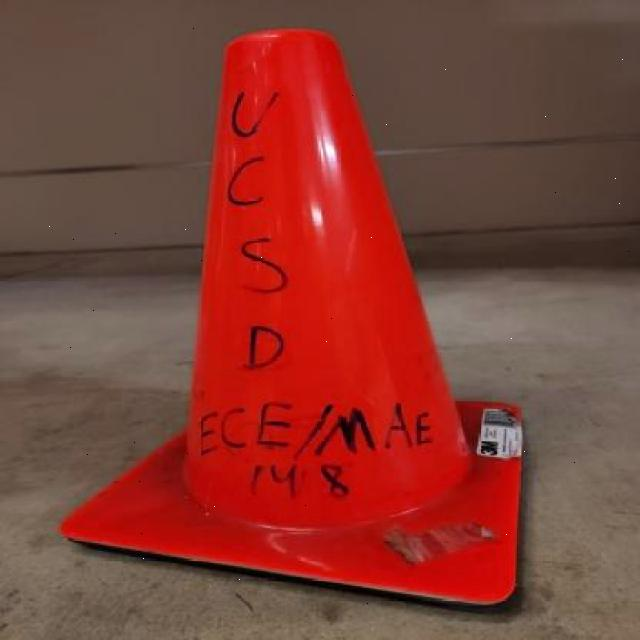traffic cone: (46, 23, 532, 621)
